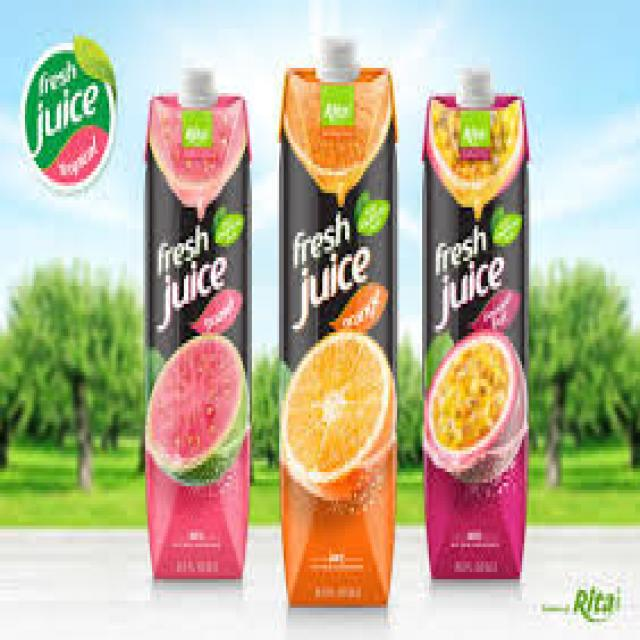non_white_jug: (262, 24, 398, 613), (416, 54, 540, 609), (132, 58, 255, 593)
